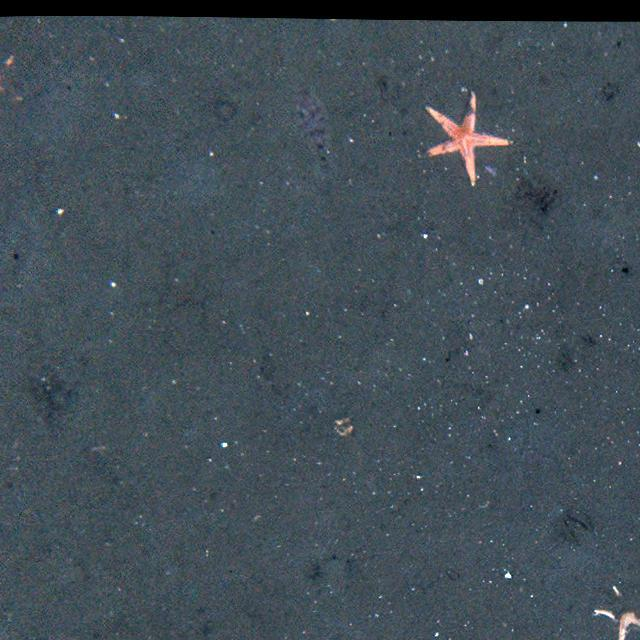flatfish: (293, 84, 337, 168)
